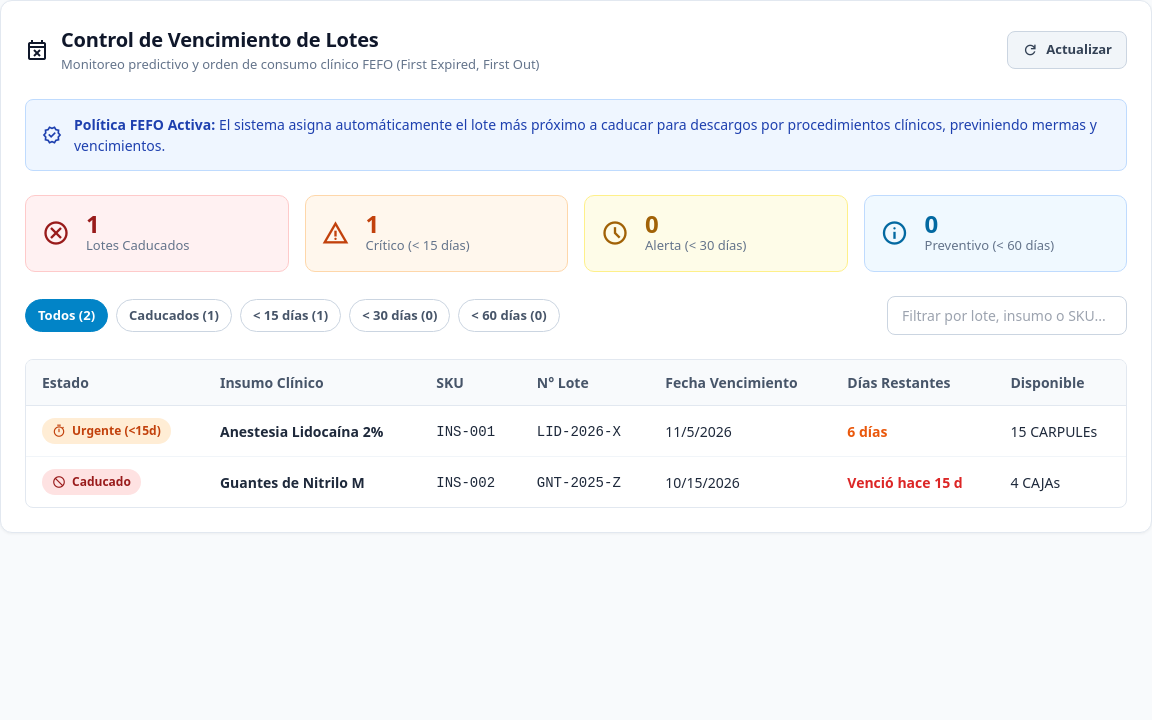
it: BatchExpiryTracker Component › filters batches when clicking filter chips
The width and height of the screenshot is (1152, 720).
Expected: the text "LID-2026-X" is shown, [537,424,621,440]
Expected: the text "GNT-2025-Z" is shown, [537,474,621,490]
Click the button "Caducados (1)": (174, 316) [116,299,232,332]
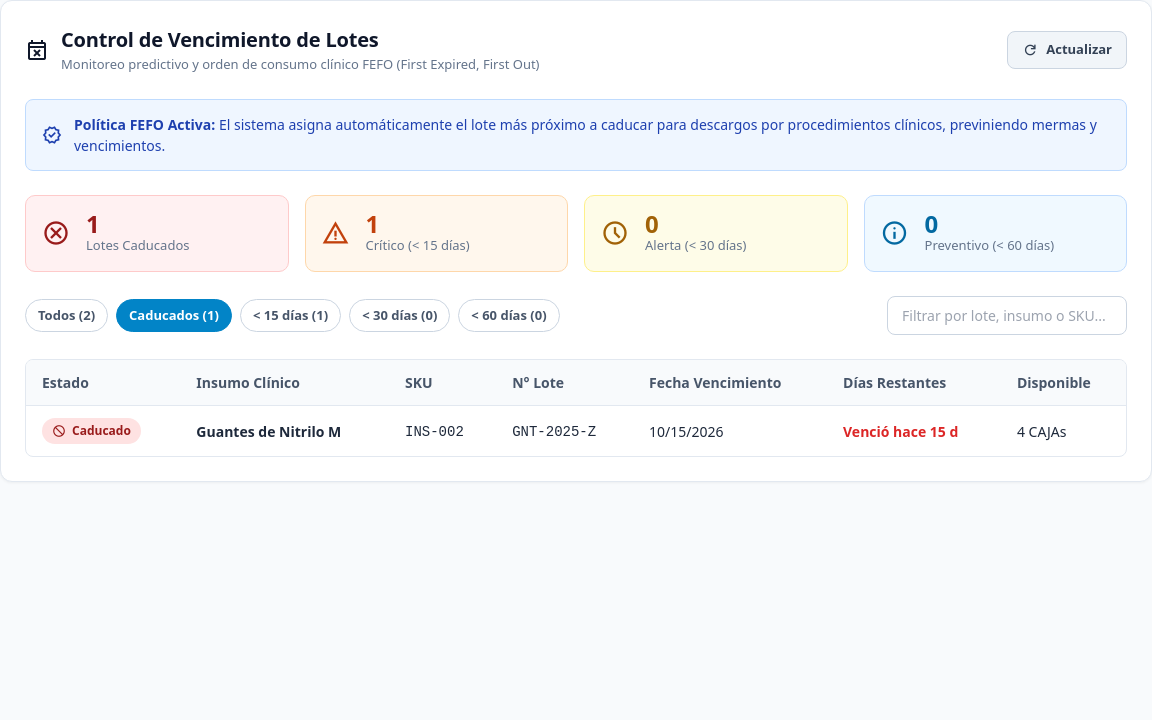
Expected: the text "GNT-2025-Z" is shown, [512,424,596,440]
Expected: the text "LID-2026-X" is gone
